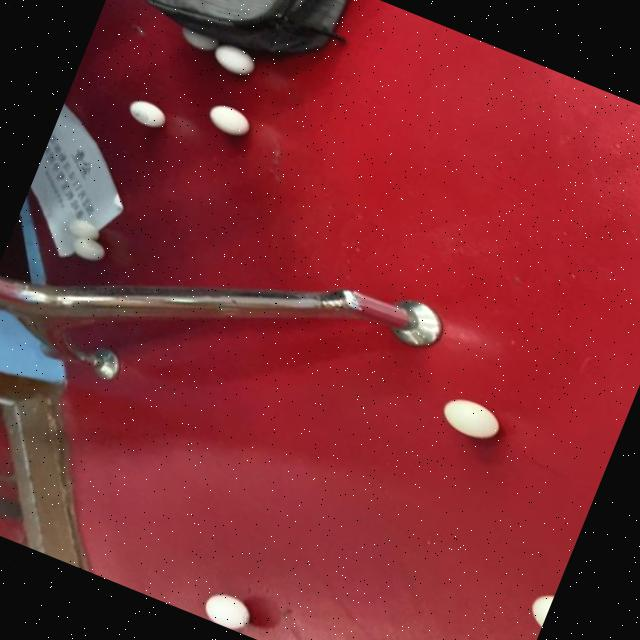ping-pong-ball: (433, 389, 508, 447), (198, 585, 255, 634), (202, 98, 257, 140), (208, 39, 260, 80), (121, 92, 170, 133), (522, 584, 556, 632), (172, 20, 220, 54), (64, 230, 109, 265), (60, 211, 104, 246)
